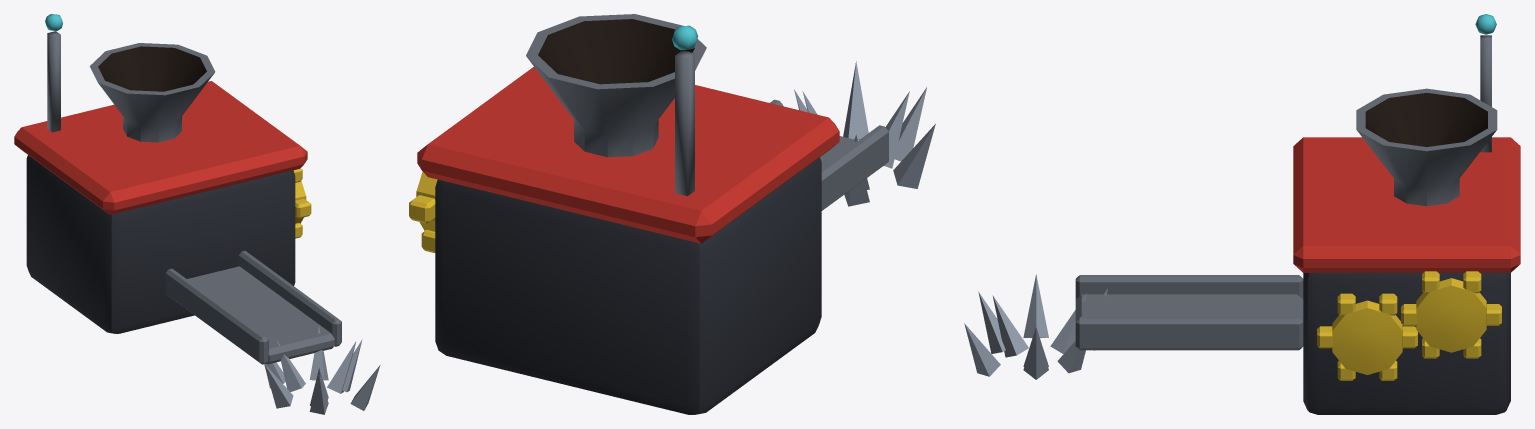
The picture shows the model from 3 angles, left to right: view 1: azimuth 30°, elevation 25°; view 2: azimuth 150°, elevation 25°; view 3: azimuth 270°, elevation 25°; orthographic projection. The views are drawn at different scales.
Parts seen in each view (by area): view 1: espinhos_0_base, espinhos_1_torreta; view 2: espinhos_0_base, espinhos_1_torreta; view 3: espinhos_0_base, espinhos_1_torreta.
Part boxes in pixels (x1=…): espinhos_0_base: x1=14, y1=14, x2=380, y2=414; espinhos_1_torreta: x1=165, y1=250, x2=341, y2=364; espinhos_0_base: x1=409, y1=14, x2=935, y2=414; espinhos_1_torreta: x1=770, y1=99, x2=888, y2=210; espinhos_0_base: x1=964, y1=14, x2=1520, y2=414; espinhos_1_torreta: x1=1075, y1=275, x2=1303, y2=350.
Bounding box in the file's own units: 0.596 × 0.6918 × 1.13.
